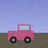vehicle: (8, 24, 33, 43)
